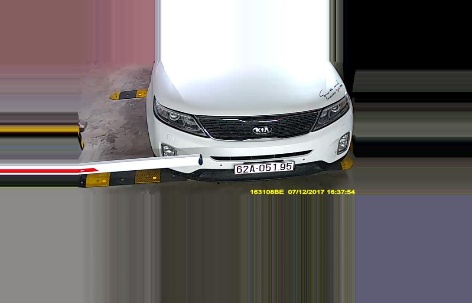plate: (233, 159, 294, 174)
